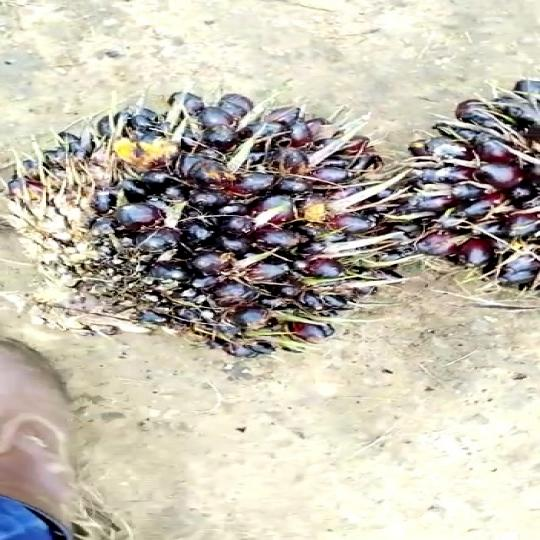mentah: (1, 90, 422, 350), (370, 72, 540, 295)
